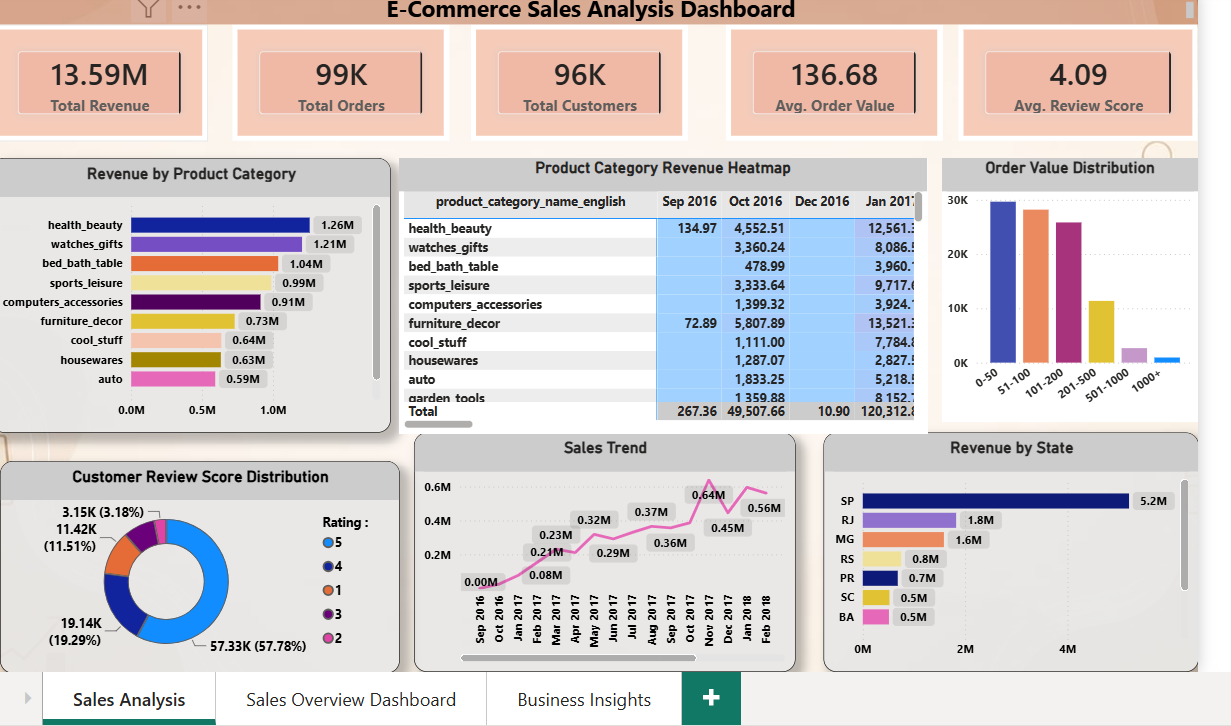

The page's visual inventory and layout, read from the dashboard file:
{"tool":"powerbi","page":{"name":"Sales Analysis","canvas":[1280,720],"ordinal":0},"visuals":[{"type":"cardVisual","fields":{"Data":["measures (3).Total Revenue"]},"box":[0,34,229.9,123.1],"z":0},{"type":"cardVisual","fields":{"Data":["measures (3).Total Orders"]},"box":[255.8,34,229.9,123.1],"z":1000},{"type":"cardVisual","fields":{"Data":["measures (3).Total Customers"]},"box":[508.4,34,229.9,123.1],"z":2000},{"type":"cardVisual","fields":{"Data":["measures (3).Average Order Value"]},"box":[778.8,34,229.9,123.1],"z":3000},{"type":"cardVisual","fields":{"Data":["measures (3).Average Review Score"]},"box":[1026.7,33.3,253.3,123.3],"z":4000},{"type":"clusteredBarChart","title":"Revenue by Product Category","fields":{"Y":["measures (3).Total Revenue"],"Category":["clean_product_category_name_translation.product_category_name_english"]},"box":[0,174.9,424.2,291.5],"z":5000},{"type":"lineChart","title":"Sales Trend","fields":{"Y":["measures (3).Total Revenue"],"Category":["clean_olist_order_dataset.Month Year"]},"box":[448.5,466.3,404.8,254.2],"z":6000},{"type":"clusteredBarChart","title":"Revenue by State","fields":{"Y":["measures (3).Total Revenue"],"Category":["clean_olist_customers_dataset.customer_state"]},"box":[882.5,466.3,398.3,254.2],"z":7000},{"type":"donutChart","title":"Customer Review Score Distribution","fields":{"Category":["clean_olist_order_reviews_dataset.review_score"],"Y":["CountNonNull(clean_olist_order_reviews_dataset.review_id)"]},"box":[9.7,495.5,424.2,225.1],"z":8000},{"type":"pivotTable","title":"Product Category Revenue Heatmap","fields":{"Values":["measures (3).Total Revenue"],"Columns":["clean_olist_order_dataset.Month Year"],"Rows":["clean_product_category_name_translation.product_category_name_english"]},"box":[433.3,175,560,291.7],"z":9000},{"type":"clusteredColumnChart","title":"Order Value Distribution","fields":{"Y":["CountNonNull(Order Values.clean_olist_order_items_dataset_order_id)"],"Category":["Order Values.Order Value Range"]},"box":[1008.3,175,271.7,280],"z":10000},{"type":"textbox","box":[0,0,1280,33.3],"z":11000}]}

Visuals, with their boxes on the page's 1280x720 design canvas (x1, y1, x2, y2). These are canvas units, not pixel positions in the 1231x726 screenshot, which may show the page scaled, cropped or inside an application window:
cardVisual - measures (3).Total Revenue: bbox=[0, 34, 230, 157]
cardVisual - measures (3).Total Orders: bbox=[256, 34, 486, 157]
cardVisual - measures (3).Total Customers: bbox=[508, 34, 738, 157]
cardVisual - measures (3).Average Order Value: bbox=[779, 34, 1009, 157]
cardVisual - measures (3).Average Review Score: bbox=[1027, 33, 1280, 157]
"Revenue by Product Category" clusteredBarChart: bbox=[0, 175, 424, 466]
"Sales Trend" lineChart: bbox=[448, 466, 853, 720]
"Revenue by State" clusteredBarChart: bbox=[882, 466, 1281, 720]
"Customer Review Score Distribution" donutChart: bbox=[10, 496, 434, 721]
"Product Category Revenue Heatmap" pivotTable: bbox=[433, 175, 993, 467]
"Order Value Distribution" clusteredColumnChart: bbox=[1008, 175, 1280, 455]
textbox: bbox=[0, 0, 1280, 33]
